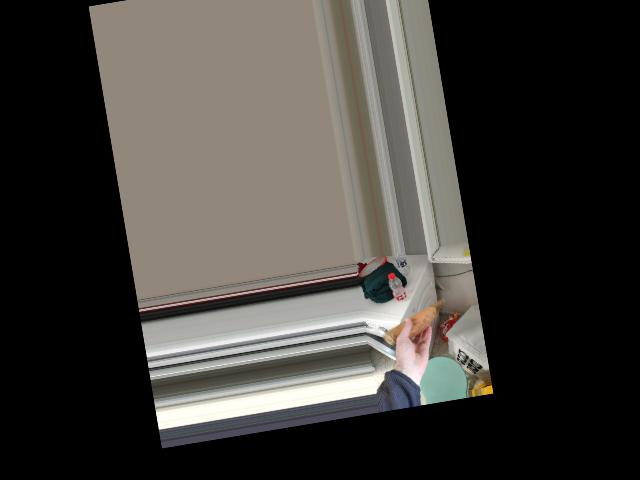sweet_potato: (384, 305, 435, 344)
